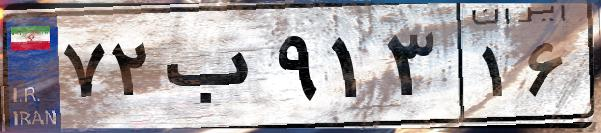1: (330, 28, 385, 110), (475, 38, 525, 113)
2: (110, 28, 158, 98)
3: (385, 28, 445, 110)
6: (525, 38, 570, 115)
7: (57, 26, 110, 100)
9: (270, 28, 330, 110)
ب: (158, 20, 270, 120)
